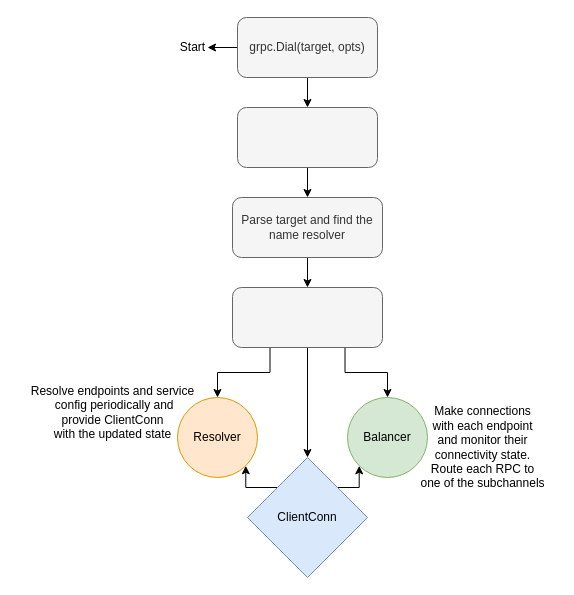
Some shapes in this 574 by 595 pixel diagram are drawn without their labels. Each missing label, with the centre of its shape:
"Initialize the resolver and balancer" belongs at pixel 307 317.
"Parse Default Service Config" belongs at pixel 307 137.
